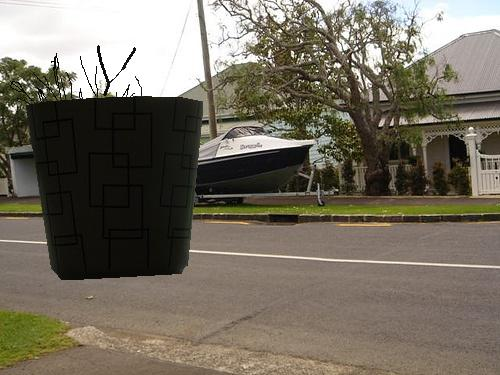tampered: (11, 46, 203, 280)
